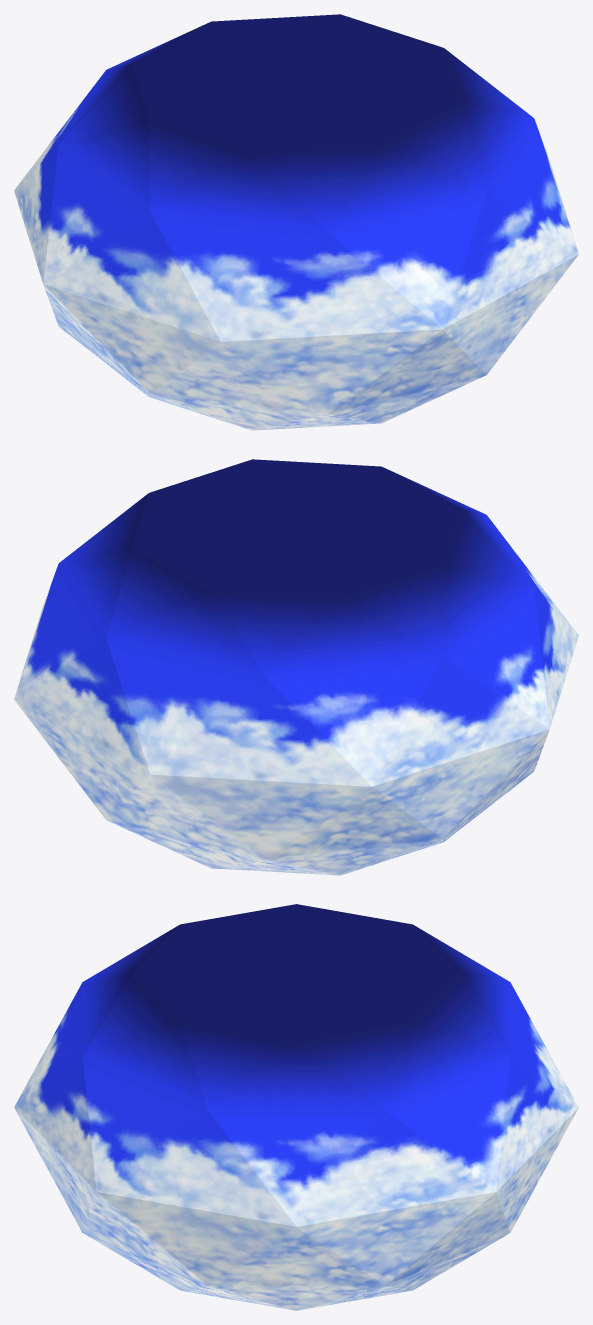
3 renders of one model, top to bottom at view 1: azimuth 30°, elevation 25°; view 2: azimuth 150°, elevation 25°; view 3: azimuth 270°, elevation 25°, orthographic. The views are drawn at different scales.
Visible parts, largest first — view 1: vr02; view 2: vr02; view 3: vr02.
Boxes of the visible parts, x1,y1,x2,y2 form: vr02: (14, 14, 578, 430); vr02: (14, 459, 578, 875); vr02: (14, 904, 578, 1310).
Bounding box in the file's own units: 117964 × 61688 × 117964.
3 materials, 3 textured.
